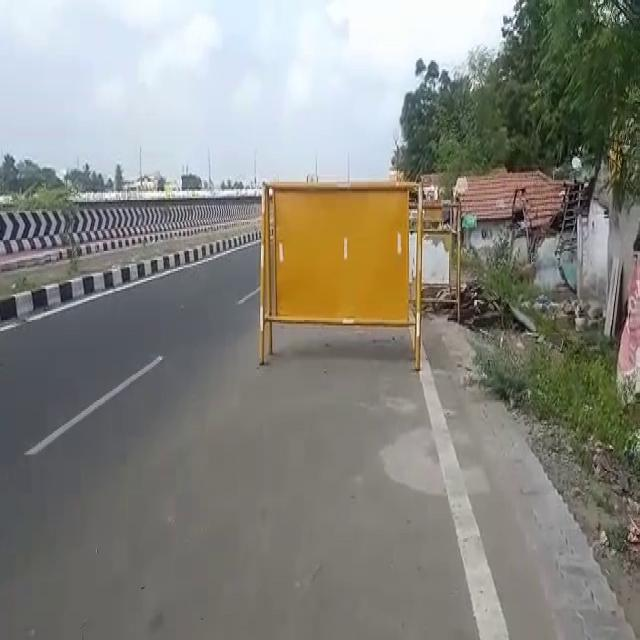fallen_object: (243, 165, 460, 387)
